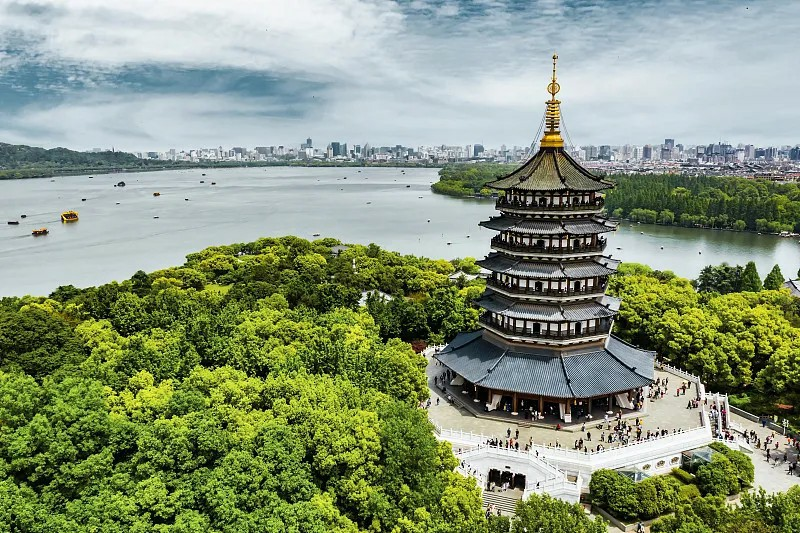Leifeng: (434, 53, 660, 431)
